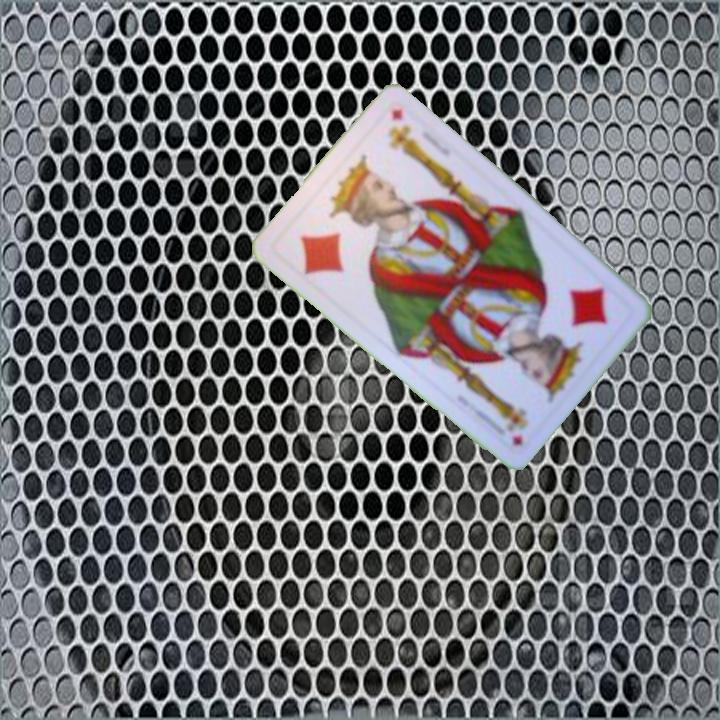d_k.png: (509, 252, 637, 382), (268, 172, 396, 302)
